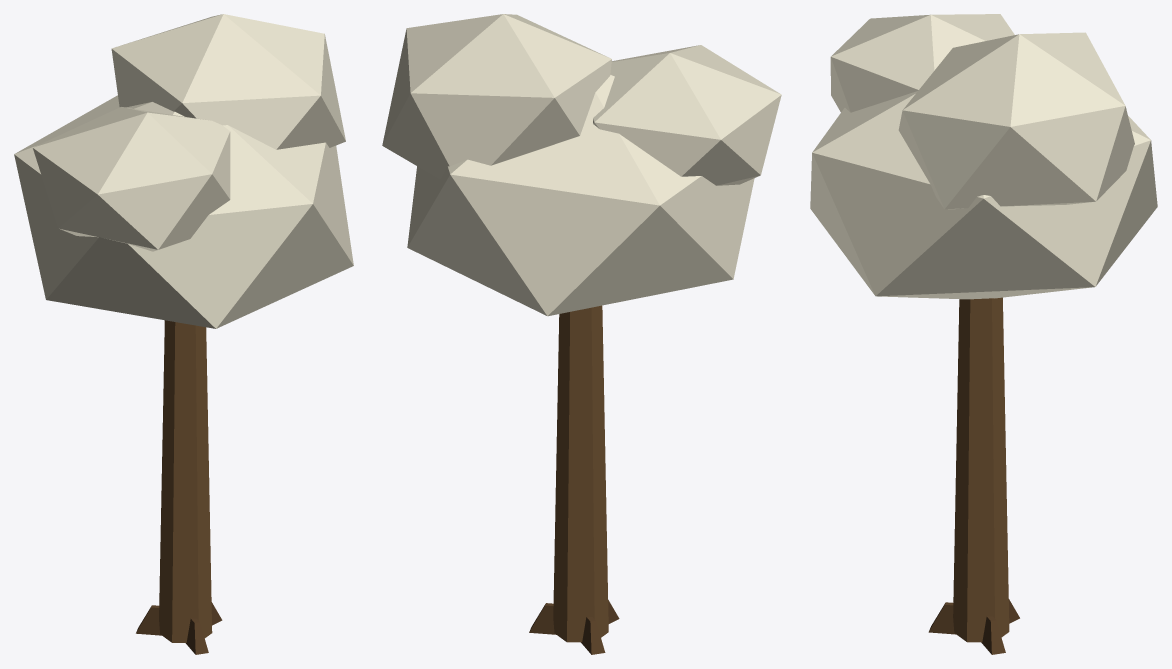
Rendered from env_tree_a.glb.
The picture shows the model from 3 angles, left to right: view 1: azimuth 30°, elevation 25°; view 2: azimuth 150°, elevation 25°; view 3: azimuth 270°, elevation 25°; orthographic projection. The views are drawn at different scales.
Visible parts, largest first — view 1: tint_canopy, trunk; view 2: tint_canopy, trunk; view 3: tint_canopy, trunk.
Boxes of the visible parts, x1,y1,x2,y2 form: tint_canopy: [14, 14, 353, 328]; trunk: [136, 320, 222, 654]; tint_canopy: [382, 14, 781, 316]; trunk: [529, 305, 619, 654]; tint_canopy: [810, 14, 1157, 299]; trunk: [928, 297, 1019, 654].
Size of the model in its own units: 4.97 by 9.3 by 4.66.
1 material, 1 textured.
